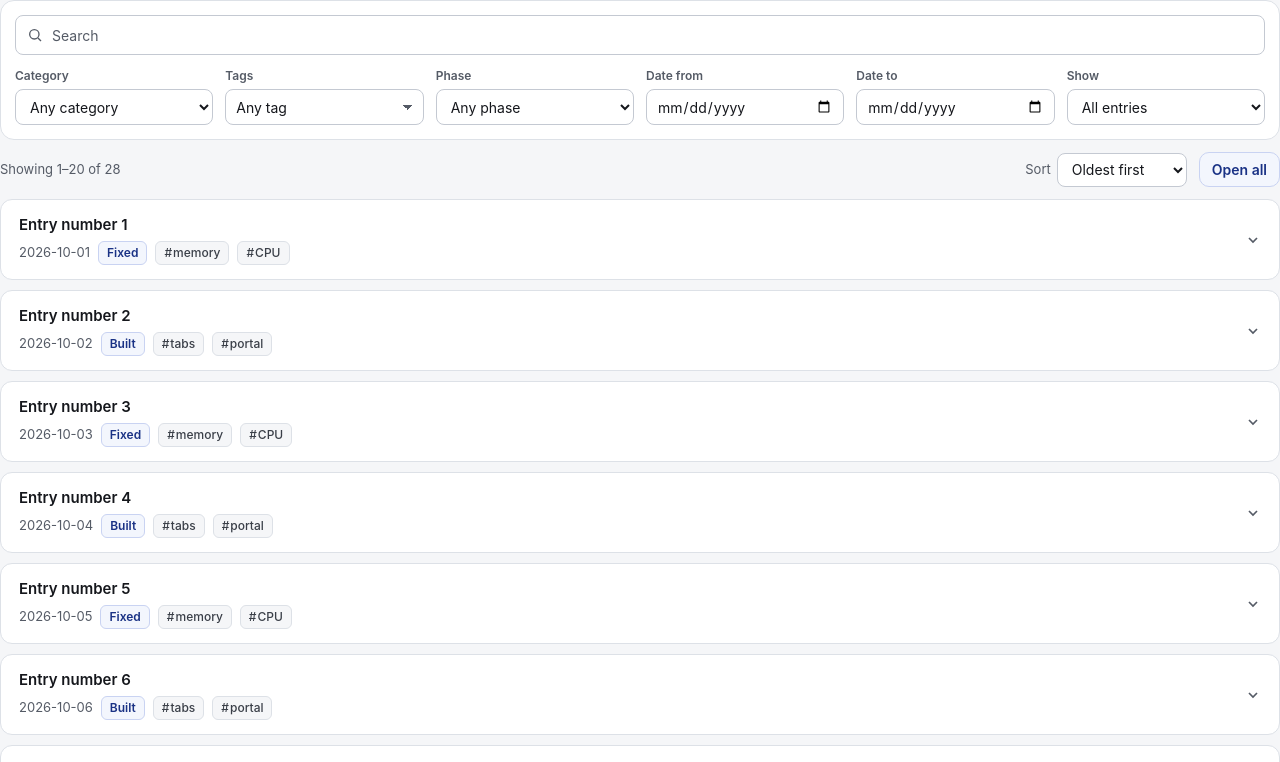
Test: Browse › no matches: a plain empty state whose button clears everything and focuses the search box
The width and height of the screenshot is (1280, 762).
Type "nothing-like-this" into the search field named "Search the entries".
click(640, 35); type("nothing-like-this")  # box [15, 15, 1265, 55]
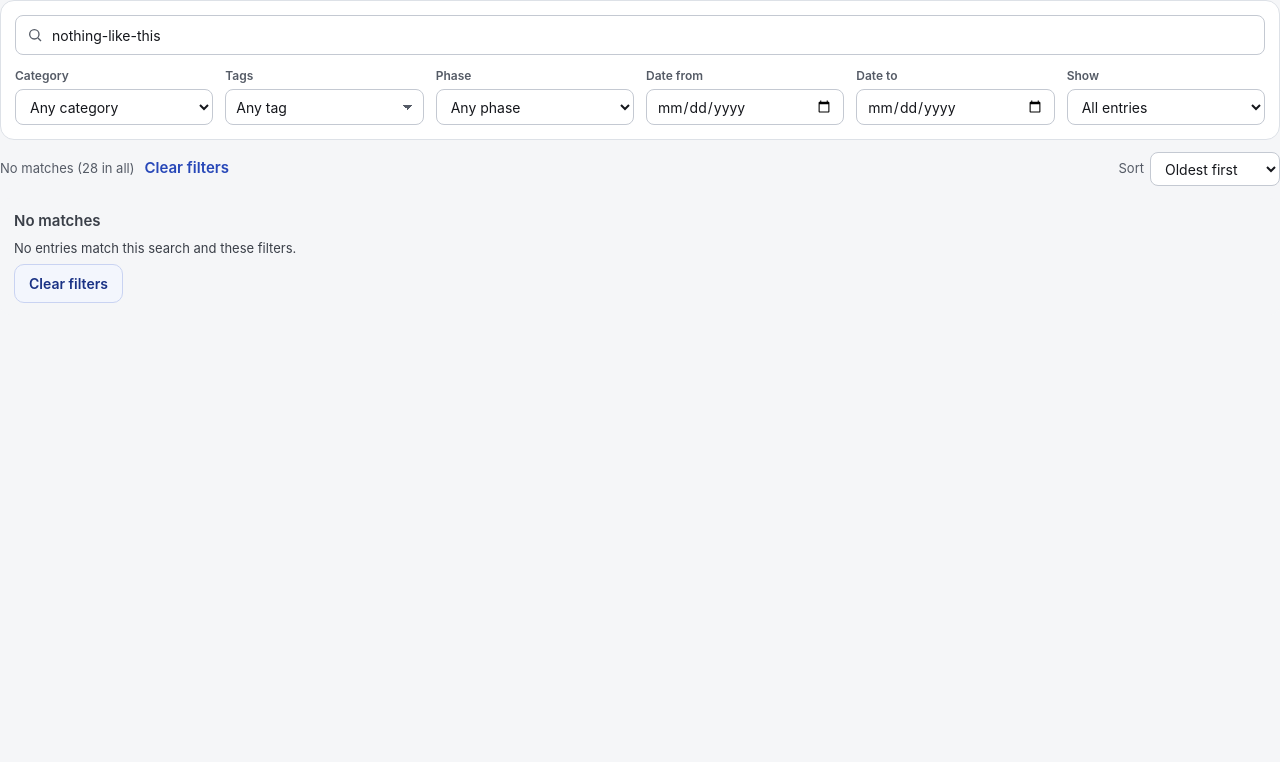
Expected: the element with test id "log-empty" shows "No matches", [14, 211, 101, 230]
Click the 2nd button "Clear filters".
click(68, 284)  # box [14, 264, 123, 303]
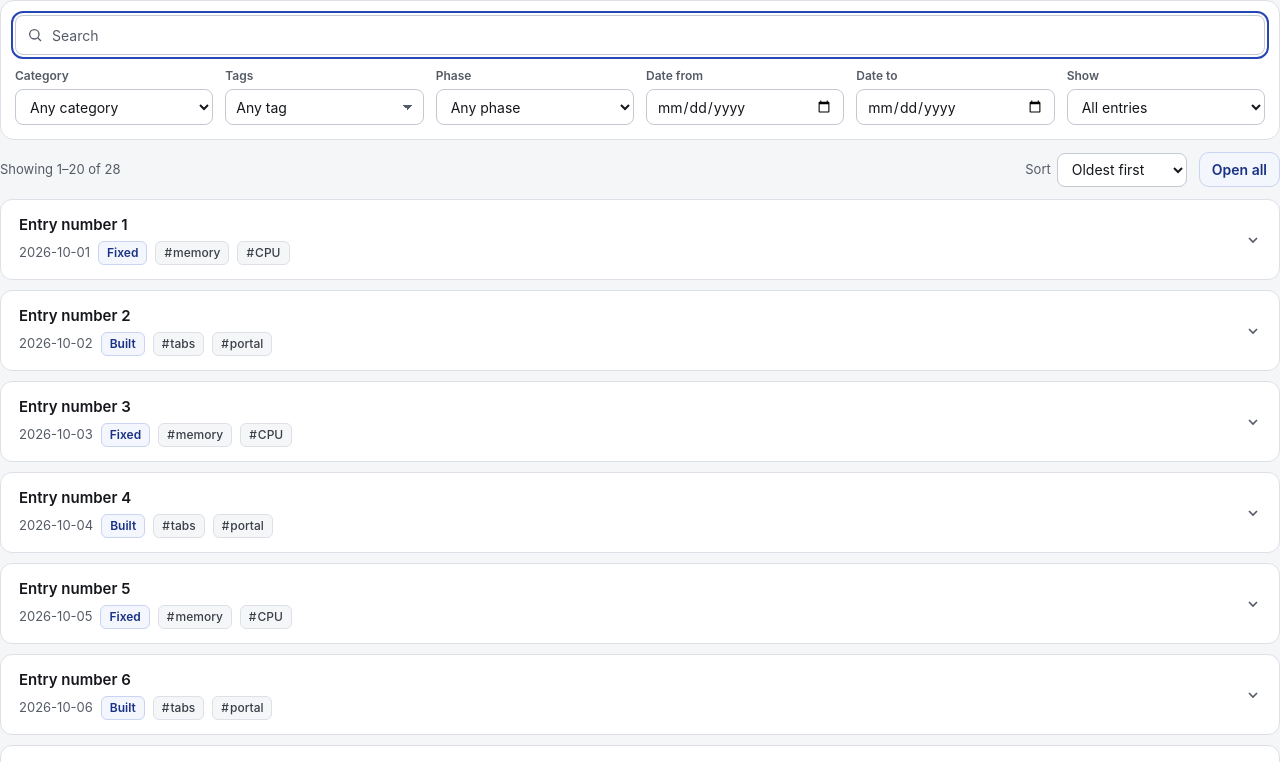
Expected: the button with test id "log-clear" is gone
